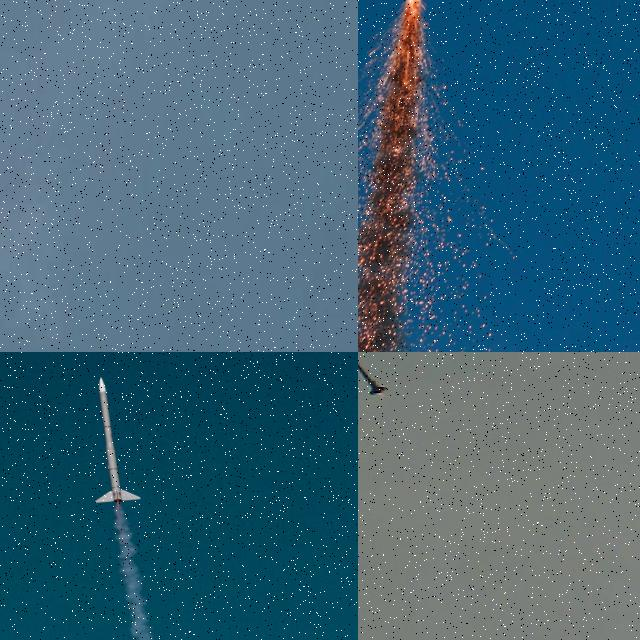Rocket: (95, 377, 142, 503), (358, 352, 387, 395)
